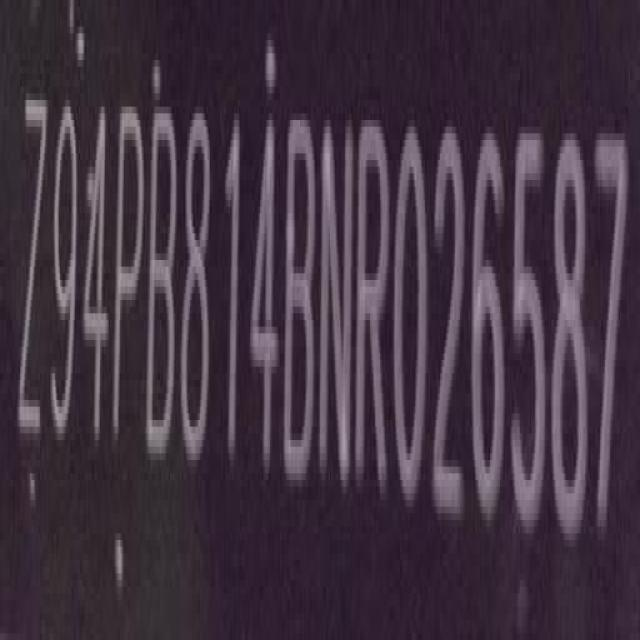0: (393, 123, 430, 520)
1: (223, 110, 242, 485)
2: (432, 118, 466, 525)
4: (249, 113, 282, 488), (84, 100, 113, 461)
5: (510, 124, 548, 536)
6: (468, 119, 504, 530)
7: (596, 118, 632, 553)
8: (552, 124, 589, 538), (185, 105, 216, 474)
9: (53, 99, 80, 455)
B: (285, 113, 318, 488), (146, 100, 178, 468)
N: (319, 115, 355, 498)
P: (115, 100, 144, 463)
R: (357, 113, 392, 507)
Z: (17, 90, 47, 453)
